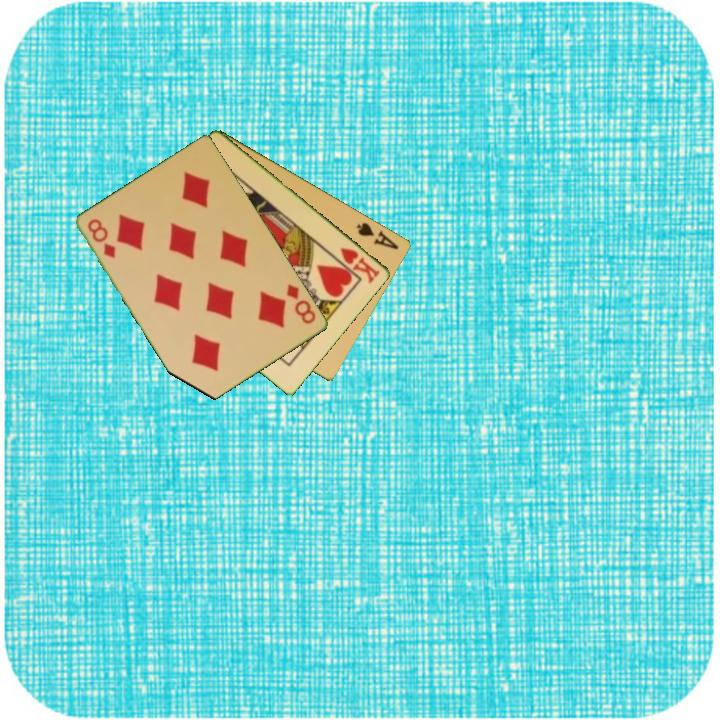8d: (283, 280, 319, 327), (84, 215, 119, 261)
As: (353, 218, 402, 252)
Kh: (337, 244, 383, 286)
